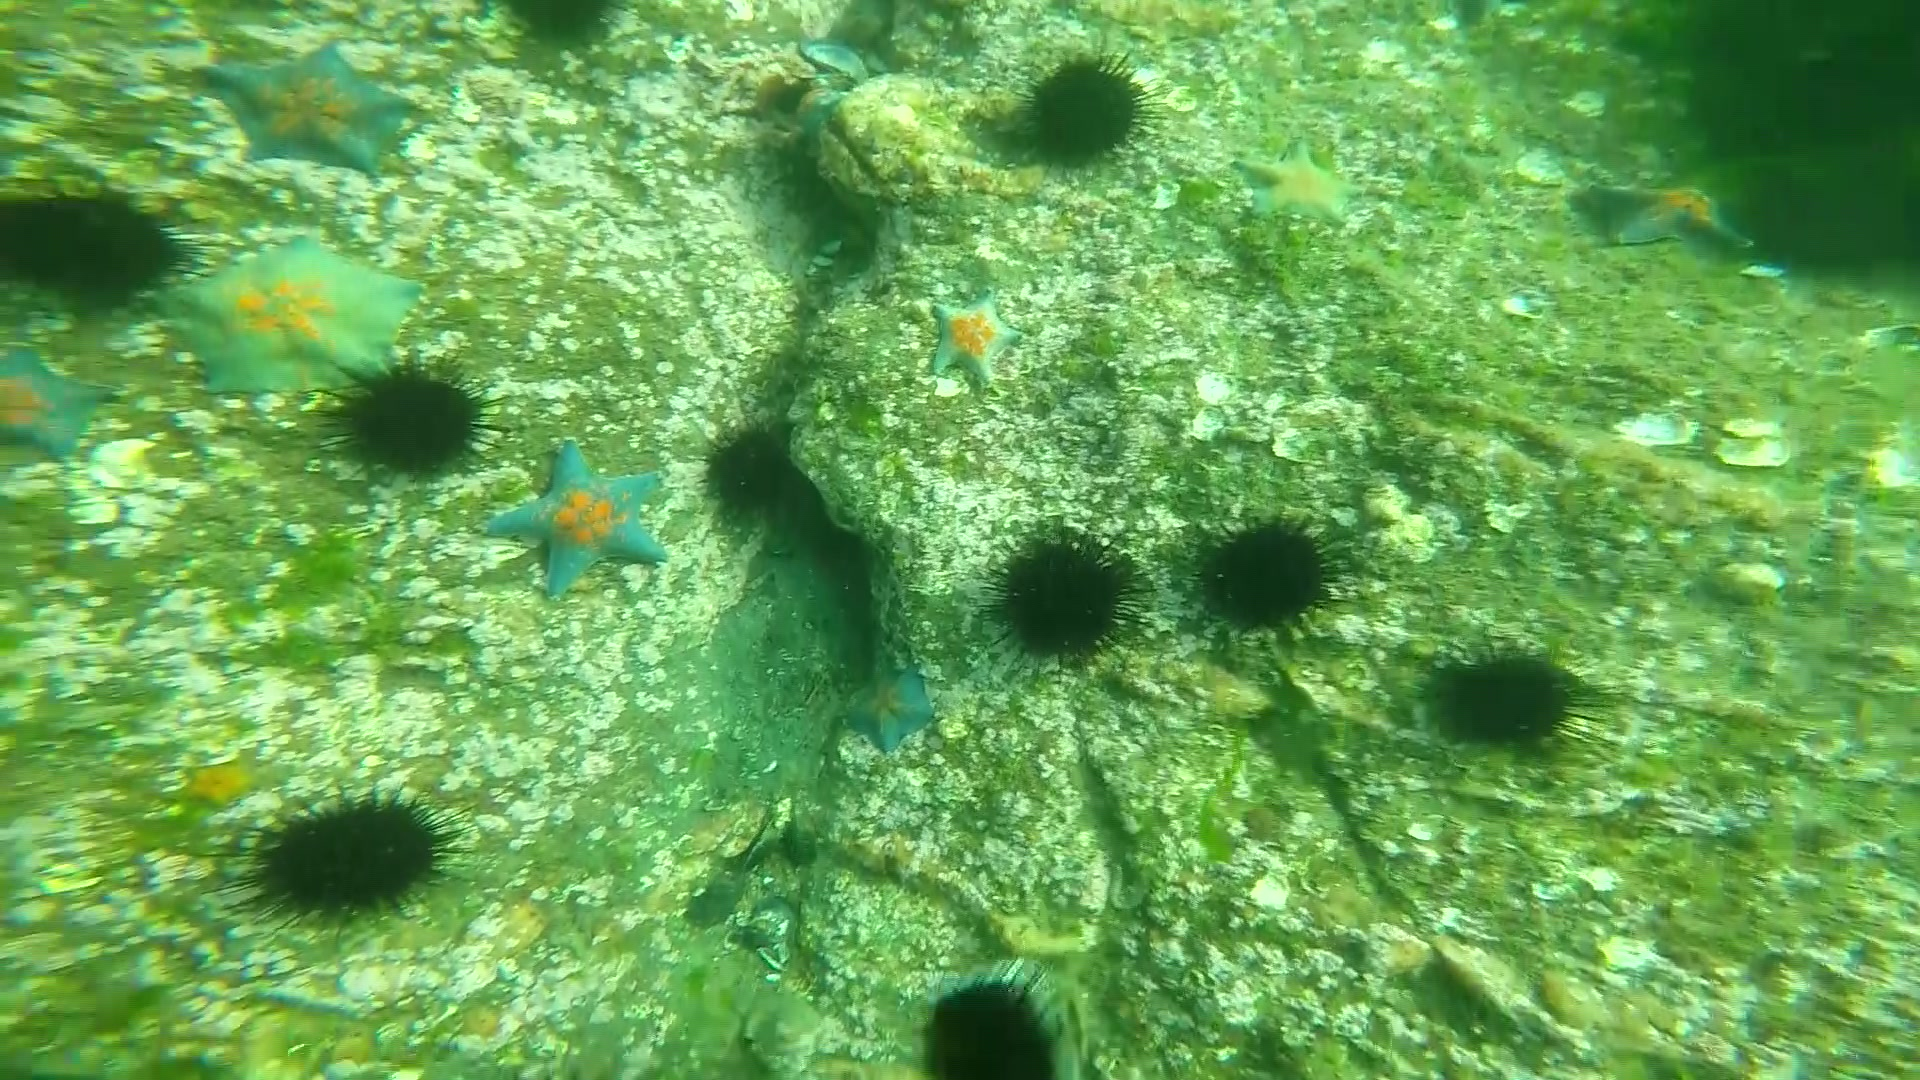echinus: (219, 791, 473, 934), (3, 177, 204, 307), (986, 518, 1154, 671), (324, 357, 506, 491), (1433, 633, 1596, 761), (1193, 510, 1342, 638), (903, 971, 1073, 1080), (1013, 53, 1171, 166), (702, 423, 798, 513)
starfish: (160, 247, 419, 393), (487, 439, 675, 597), (196, 44, 421, 173), (1600, 165, 1763, 269), (1, 338, 113, 477), (1234, 140, 1374, 233), (920, 295, 1026, 390), (841, 673, 938, 756), (796, 76, 853, 152)
